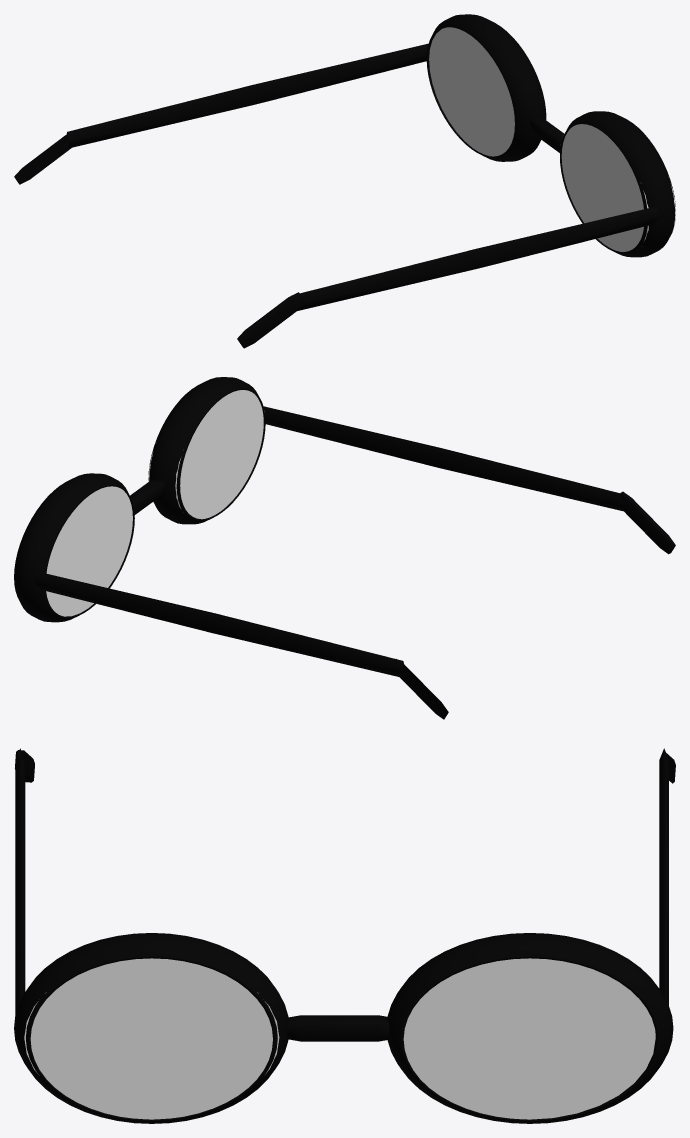
3 views of the same model, one above another, from view 1: azimuth 30°, elevation 25°; view 2: azimuth 150°, elevation 25°; view 3: azimuth 270°, elevation 25° (orthographic). The views are drawn at different scales.
Visible parts, largest first — view 1: Cylinder.001, Cube.002, Cube.001, Cylinder, Torus.001, Torus, Cube.004, Cube.003, Cube; view 2: Cylinder, Cube.002, Cube.001, Cylinder.001, Torus.001, Torus, Cube.004, Cube.003, Cube; view 3: Cylinder.001, Cylinder, Torus.001, Torus, Cube, Cube.001, Cube.002.
Boxes of the visible parts, box(x1,y1,x2,y2) form: Cylinder.001: box(429, 27, 514, 156); Cube.002: box(66, 43, 428, 148); Cube.001: box(290, 206, 663, 310); Cylinder: box(560, 124, 675, 251); Torus.001: box(426, 14, 546, 161); Torus: box(560, 111, 675, 257); Cube.004: box(237, 292, 305, 348); Cube.003: box(14, 130, 76, 184); Cube: box(530, 117, 564, 152); Cylinder: box(148, 390, 264, 519); Cube.002: box(34, 571, 403, 677); Cube.001: box(263, 406, 629, 511); Cylinder.001: box(46, 486, 132, 616); Torus.001: box(14, 473, 134, 622); Torus: box(148, 377, 265, 524); Cube.004: box(619, 491, 675, 554); Cube.003: box(396, 659, 448, 719); Cube: box(130, 479, 164, 514); Cylinder.001: box(403, 958, 655, 1119); Cylinder: box(24, 958, 279, 1119); Torus.001: box(387, 933, 673, 1123); Torus: box(14, 933, 288, 1123); Cube: box(287, 1015, 389, 1041); Cube.001: box(15, 748, 25, 1014); Cube.002: box(659, 748, 668, 1004).
Bounding box in the file's own units: 6.33 × 1.77 × 5.76.
Materials: 2 (1 with a texture image).
